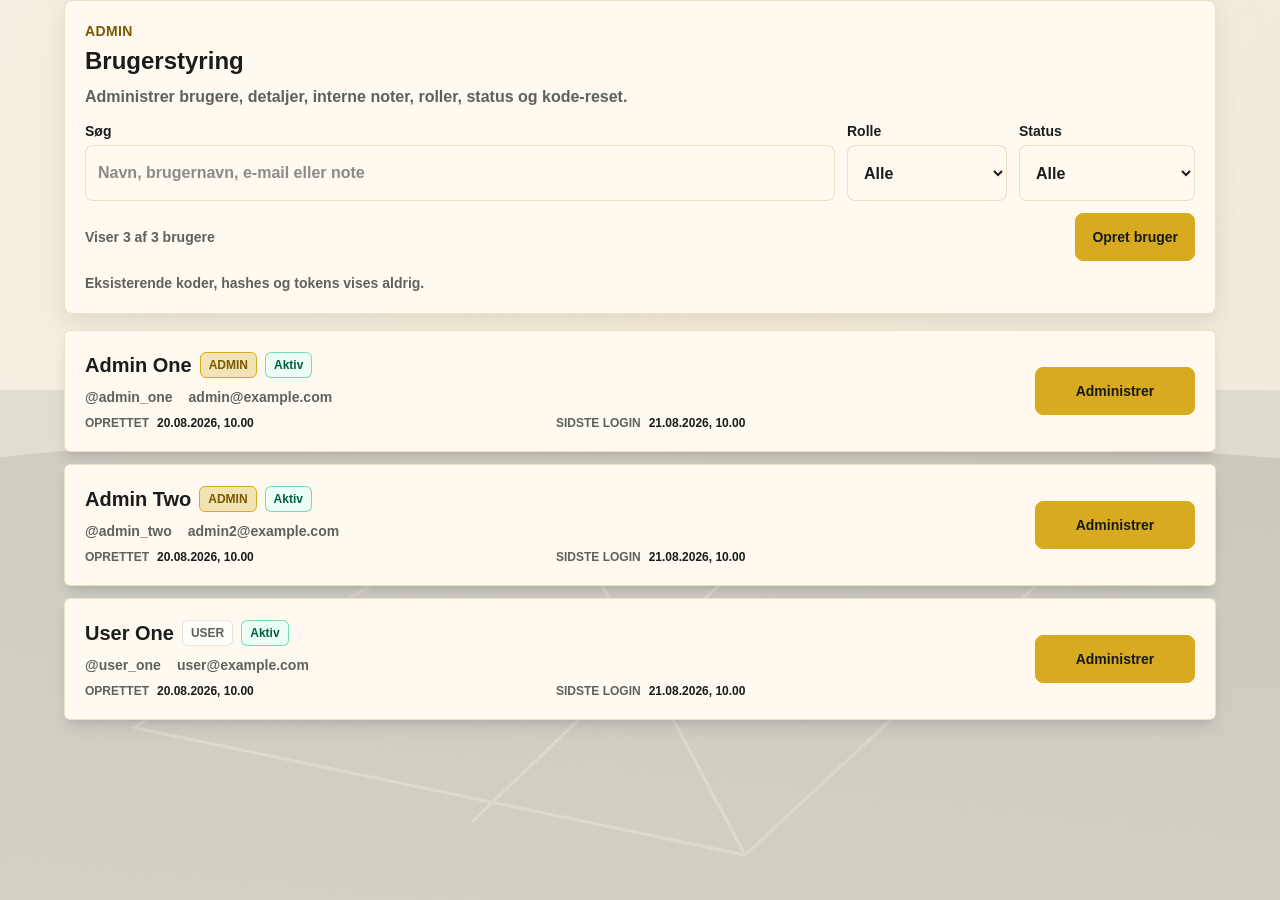
Test: STEP 25I-C1-C7 admin user management UI › does not auto-open a user detail modal until an admin selects a user
Check: the heading "Brugerstyring" is shown, box [85,47,244,74]
Check: the element with test id "admin-user-row" that starts with "User One" is shown, box [64,598,1216,720]
Click the button "Administrer" in the row of "user@example.com".
click(1115, 659)  # box [1035,635,1195,683]
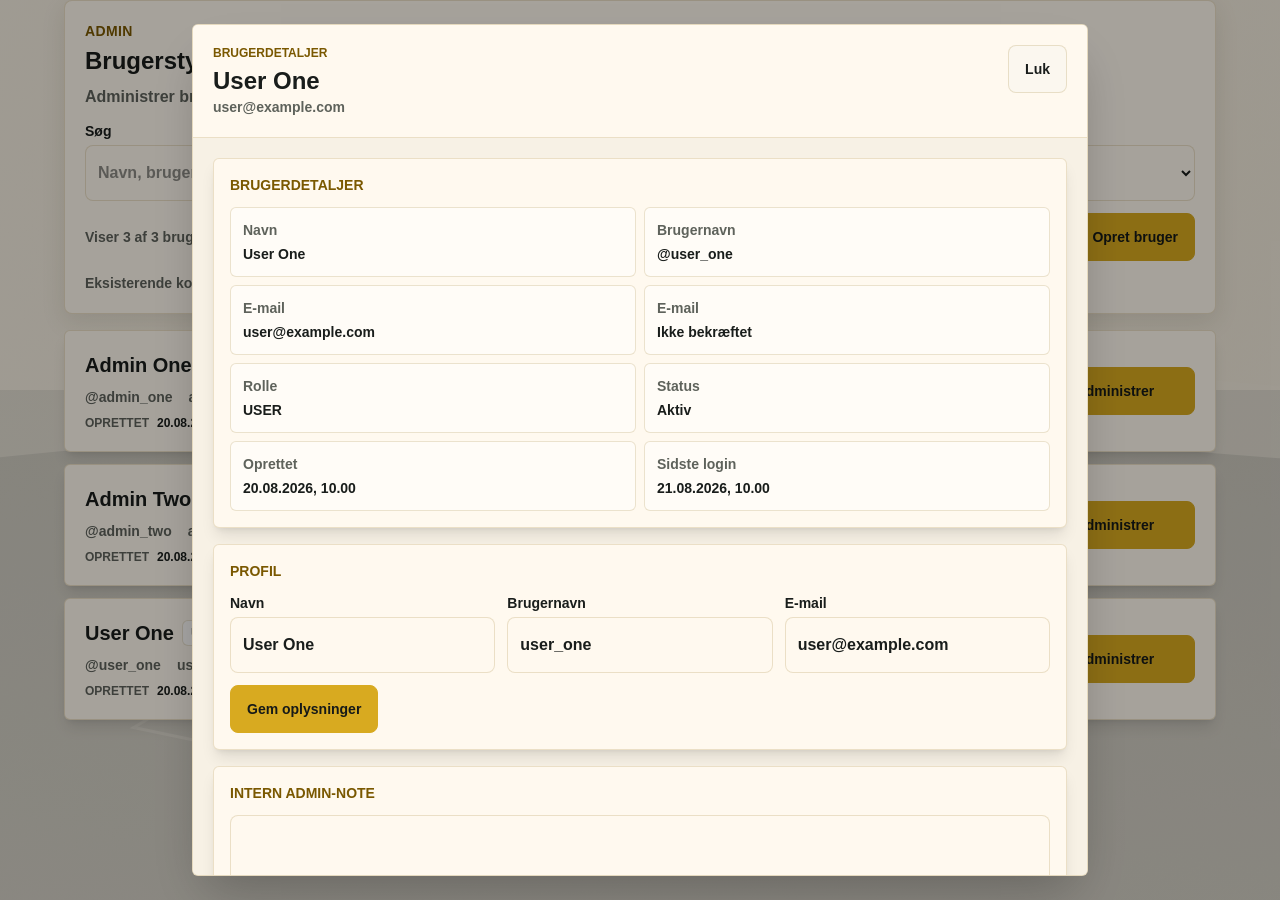
Check: the heading "User One" is shown, box [213,67,320,94]
Click the button "Luk".
click(1038, 69)  # box [1008,45,1067,93]
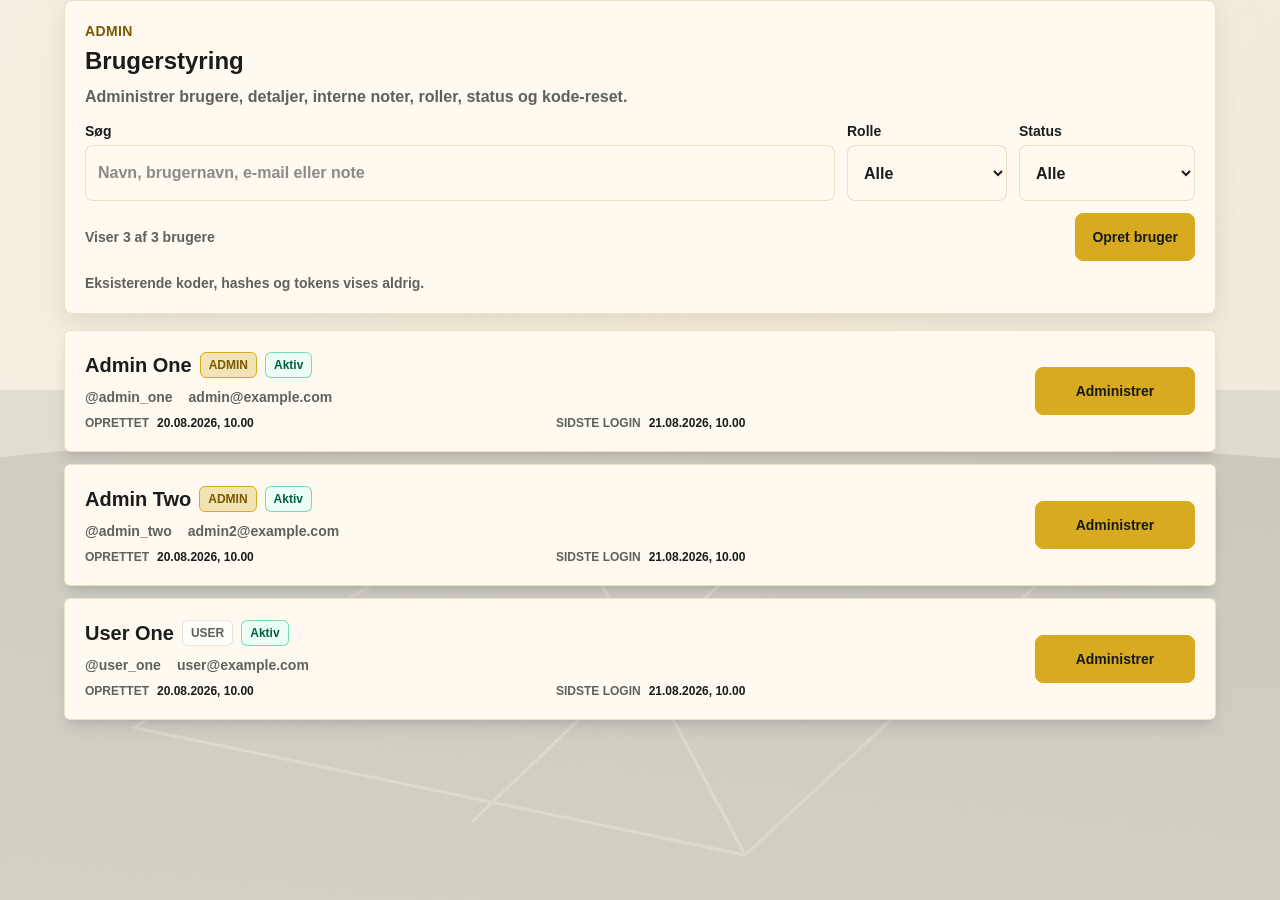
Check: the heading "Brugerstyring" is shown, box [85,47,244,74]
Check: the dialog is gone
